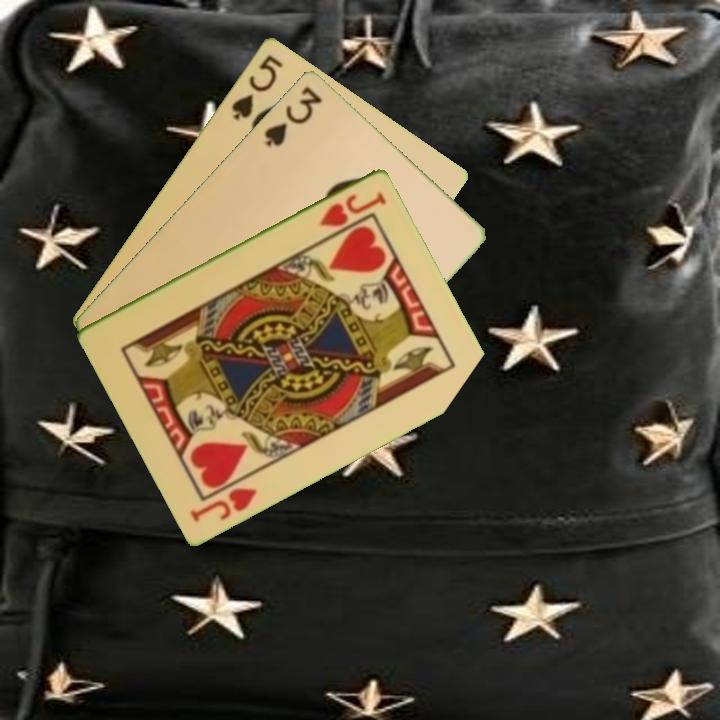3s: (260, 82, 325, 149)
5s: (228, 50, 286, 123)
Jh: (316, 188, 390, 230), (186, 483, 260, 524)
